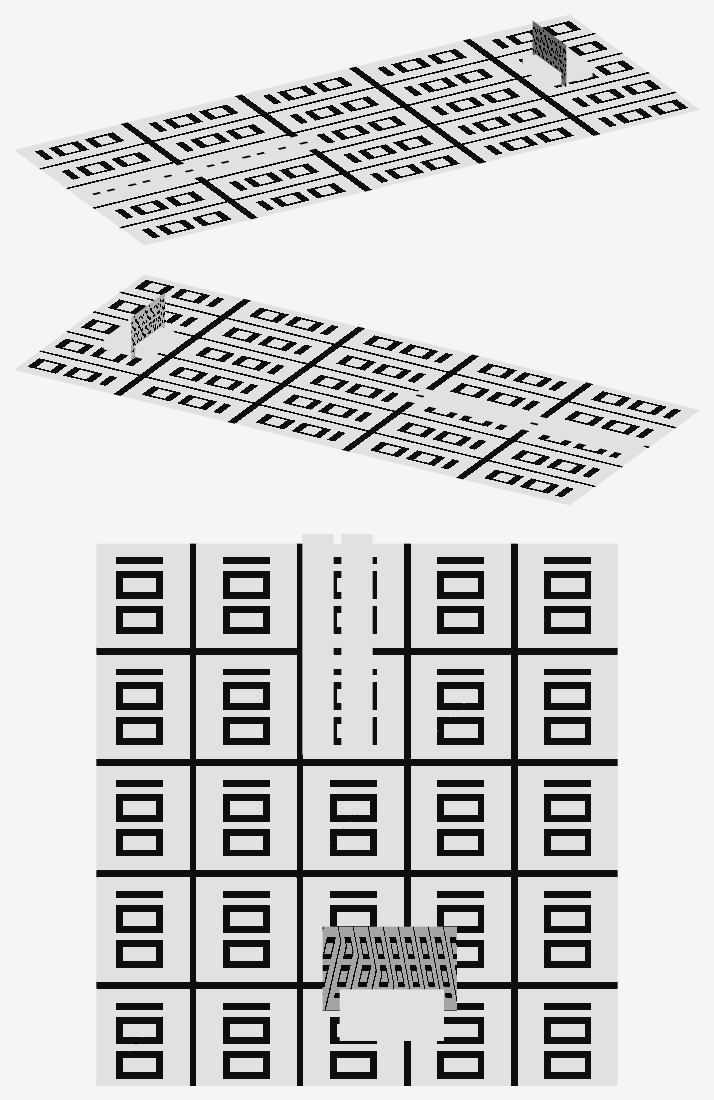
Rendered from AlphaTest2.obj.
The picture shows the model from 3 angles, top to bottom: view 1: azimuth 30°, elevation 25°; view 2: azimuth 150°, elevation 25°; view 3: azimuth 270°, elevation 25°; orthographic projection. The views are drawn at different scales.
Bounding box in the file's own units: 2461 × 233 × 1000.
4 materials, 4 textured.
